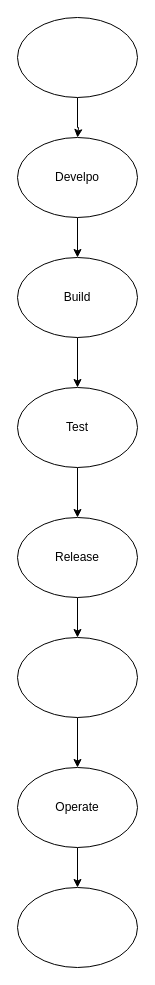
This 155x985 diagram has some shape labels left out. The shapes that lost their labels are listed below. From the top down, each one's centre as x and y in pixels, then its label:
At [77,57]: "Plan".
At [77,677]: "Deploy".
At [77,927]: "Monitor".
